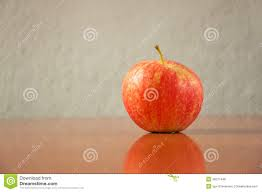apple: (123, 62, 203, 133)
